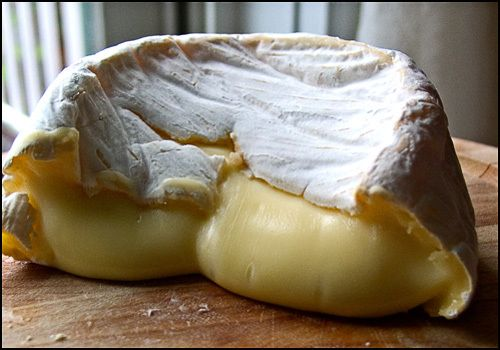camembert: (1, 30, 475, 322)
